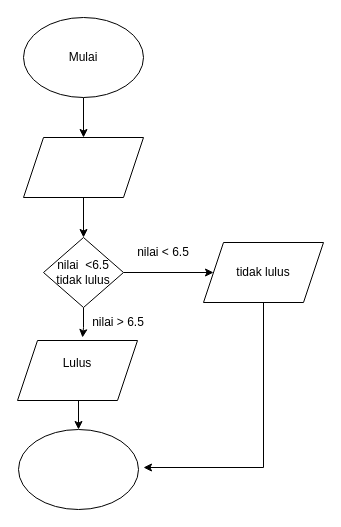
Image size: 341x527. Some labels were removed from this diagram. The box of each missing label's shape, as (x1, y1, x2, y2) in pixels:
masukkan nilai kelulusan 6,5: (22, 136, 144, 198)
selesai: (18, 428, 138, 510)
